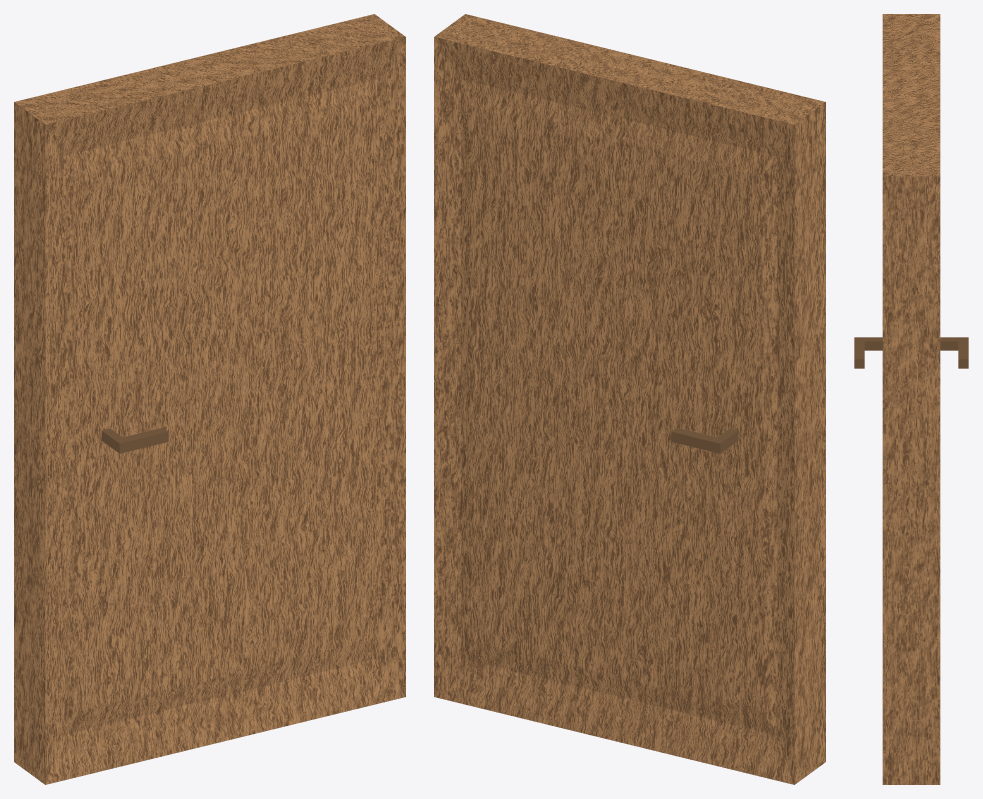
Rendered from door.glb.
The picture shows the model from 3 angles, left to right: view 1: azimuth 30°, elevation 25°; view 2: azimuth 150°, elevation 25°; view 3: azimuth 270°, elevation 25°; orthographic projection. The views are drawn at different scales.
Parts seen in each view (by area): view 1: 立方体, 立方体.001; view 2: 立方体, 立方体.001; view 3: 立方体, 立方体.001.
Boxes of the visible parts, x1,y1,x2,y2 form: 立方体: (14, 14, 405, 784); 立方体.001: (101, 427, 168, 453); 立方体: (434, 14, 825, 784); 立方体.001: (671, 427, 738, 453); 立方体: (882, 14, 940, 784); 立方体.001: (854, 337, 968, 368).
Size of the model in its own units: 40 by 70 by 11.94.
Materials: 2 (2 with a texture image).
